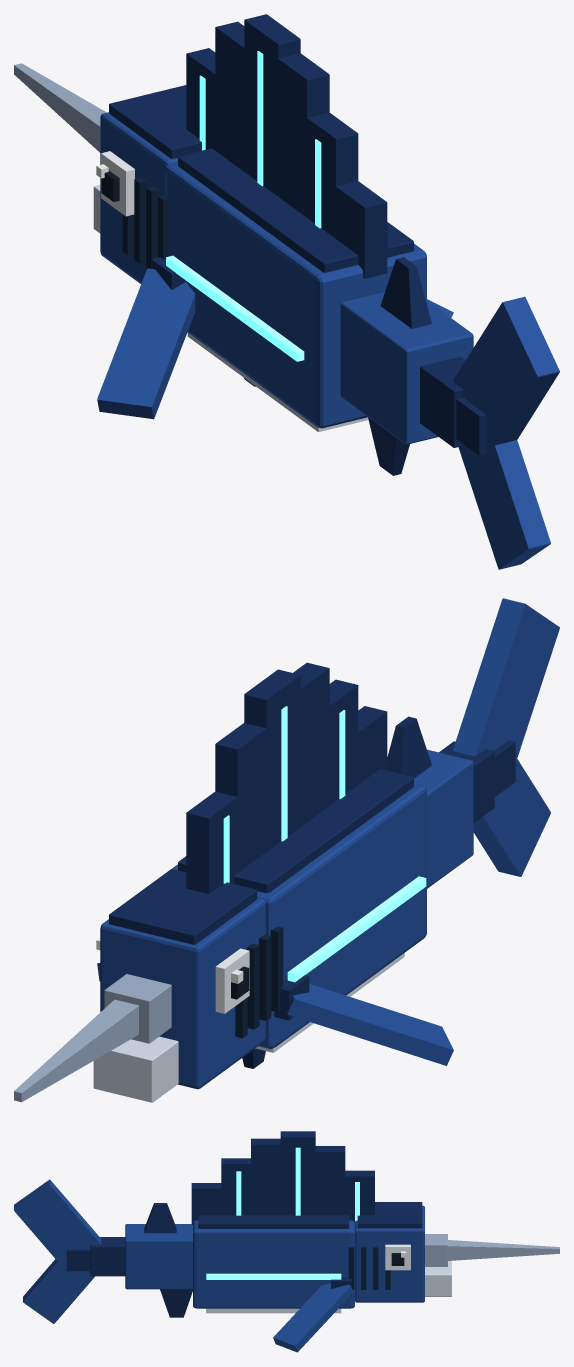
Rendered from swordfish.glb.
3 views of the same model, one above another, from view 1: azimuth 30°, elevation 25°; view 2: azimuth 150°, elevation 25°; view 3: azimuth 270°, elevation 25° (orthographic). The views are drawn at different scales.
Visible parts, largest first — view 1: body, fin.tail, head, fin.R; view 2: body, head, fin.tail, fin.R; view 3: body, head, fin.tail, fin.L.
Part boxes in pixels (left/top/right/bottom): body: left=165, top=14, right=473, bottom=475; fin.tail: left=452, top=297, right=559, bottom=569; head: left=14, top=63, right=201, bottom=283; fin.R: left=97, top=257, right=195, bottom=419; body: left=172, top=662, right=494, bottom=1068; head: left=14, top=869, right=283, bottom=1102; fin.tail: left=452, top=598, right=559, bottom=876; fin.R: left=274, top=975, right=453, bottom=1065; body: left=90, top=1131, right=374, bottom=1317; head: left=348, top=1202, right=559, bottom=1302; fin.tail: left=14, top=1179, right=101, bottom=1323; fin.L: left=273, top=1277, right=353, bottom=1352.
Bounding box in the file's own units: 1.02 × 1 × 2.63.
